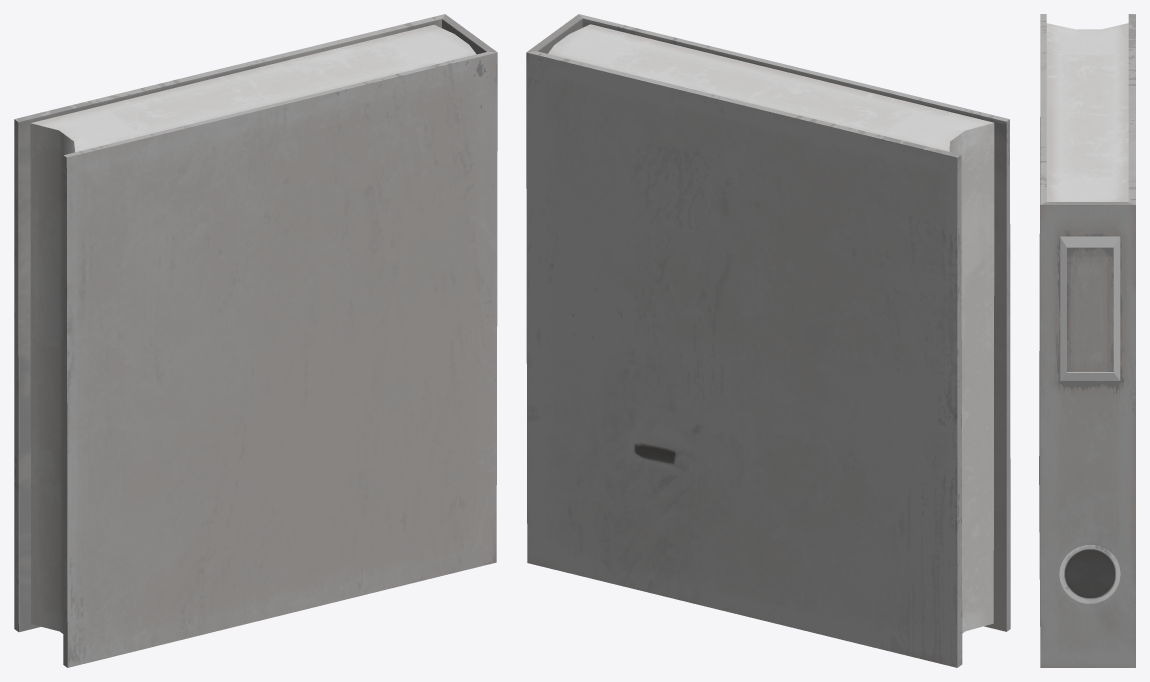
File: SM_Folder_A1.fbx
The picture shows the model from 3 angles, left to right: view 1: azimuth 30°, elevation 25°; view 2: azimuth 150°, elevation 25°; view 3: azimuth 270°, elevation 25°; orthographic projection. The views are drawn at different scales.
Parts seen in each view (by area): view 1: SM_Folder_A1; view 2: SM_Folder_A1; view 3: SM_Folder_A1.
Boxes of the visible parts, x1=… form: SM_Folder_A1: x1=14, y1=14, x2=497, y2=667; SM_Folder_A1: x1=526, y1=14, x2=1010, y2=667; SM_Folder_A1: x1=1039, y1=14, x2=1135, y2=667.
Bounding box in the file's own units: 30.15 × 6.42 × 33.92.
1 material, 1 textured.
